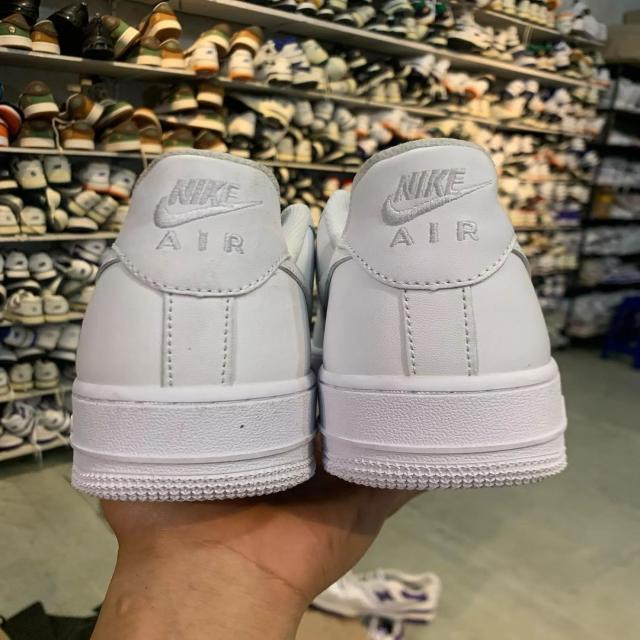nike fake air force: (314, 130, 569, 489), (61, 146, 318, 500)
